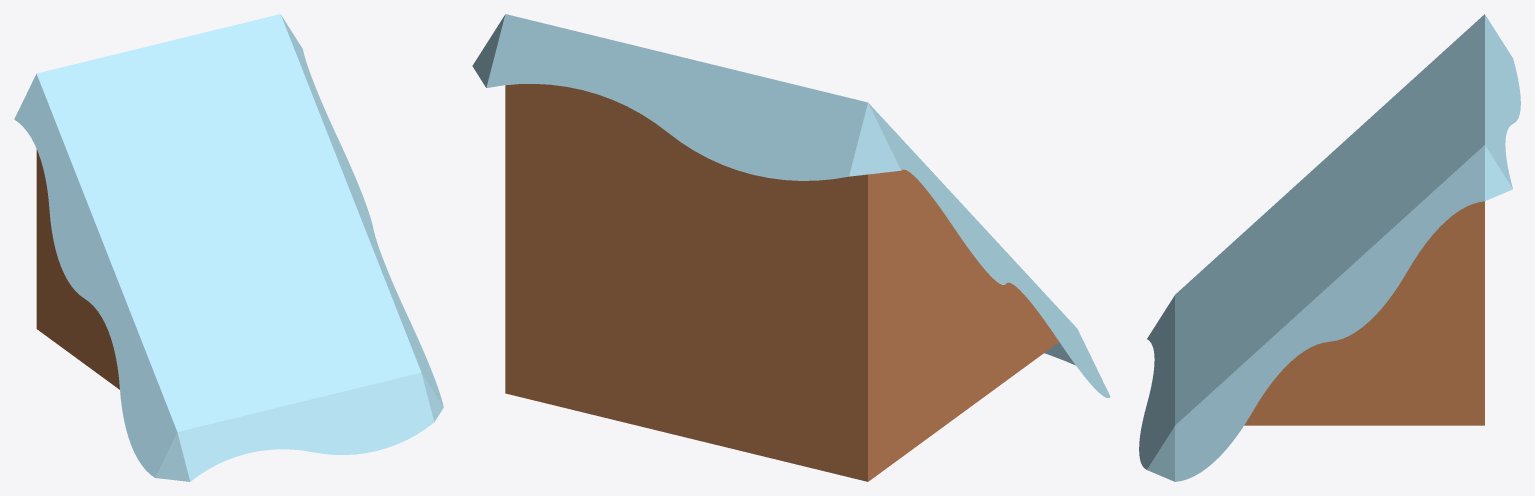
File: blockSnowSlope.fbx
3 views of the same model, side by side, from view 1: azimuth 30°, elevation 25°; view 2: azimuth 150°, elevation 25°; view 3: azimuth 270°, elevation 25° (orthographic). The views are drawn at different scales.
Visible parts, largest first — view 1: blockSnowSlope; view 2: blockSnowSlope; view 3: blockSnowSlope.
Part boxes in pixels (left/top/right/bottom): blockSnowSlope: left=14, top=14, right=443, bottom=481; blockSnowSlope: left=472, top=14, right=1110, bottom=481; blockSnowSlope: left=1139, top=14, right=1520, bottom=481.
Bounding box in the file's own units: 12.33 × 12.02 × 12.33.
